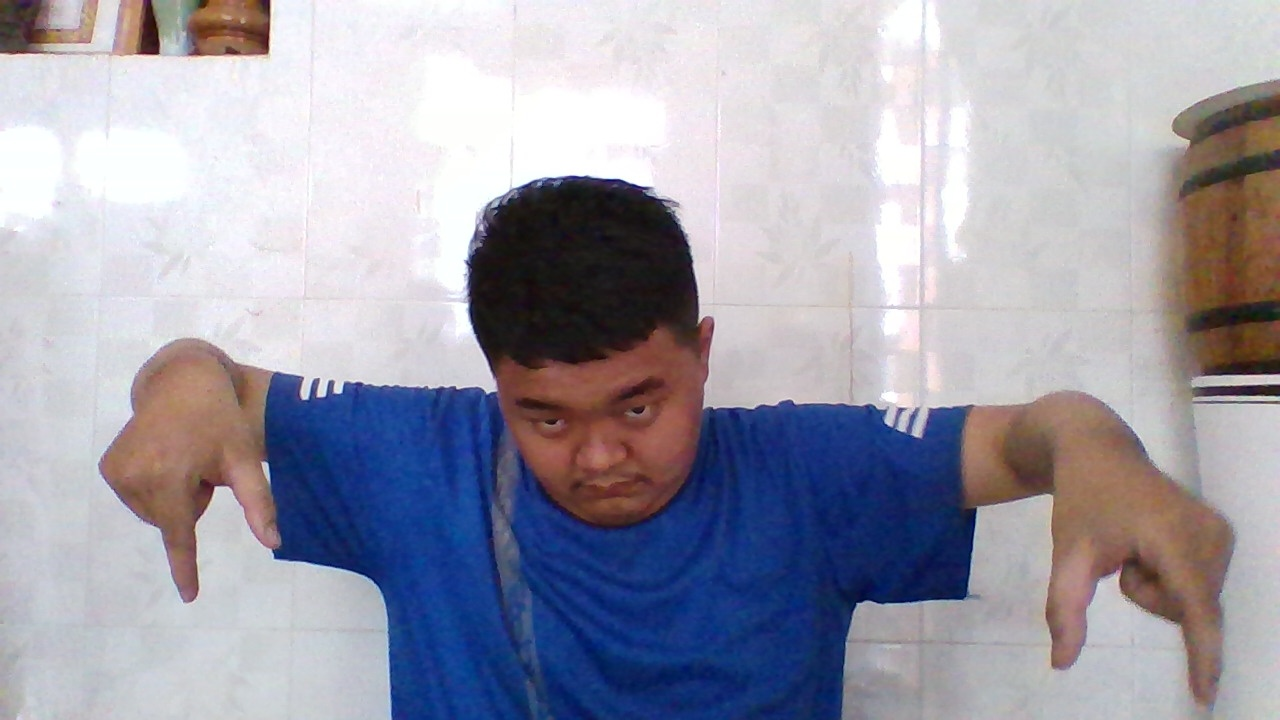Q: (1041, 440, 1240, 712), (90, 365, 289, 611)
